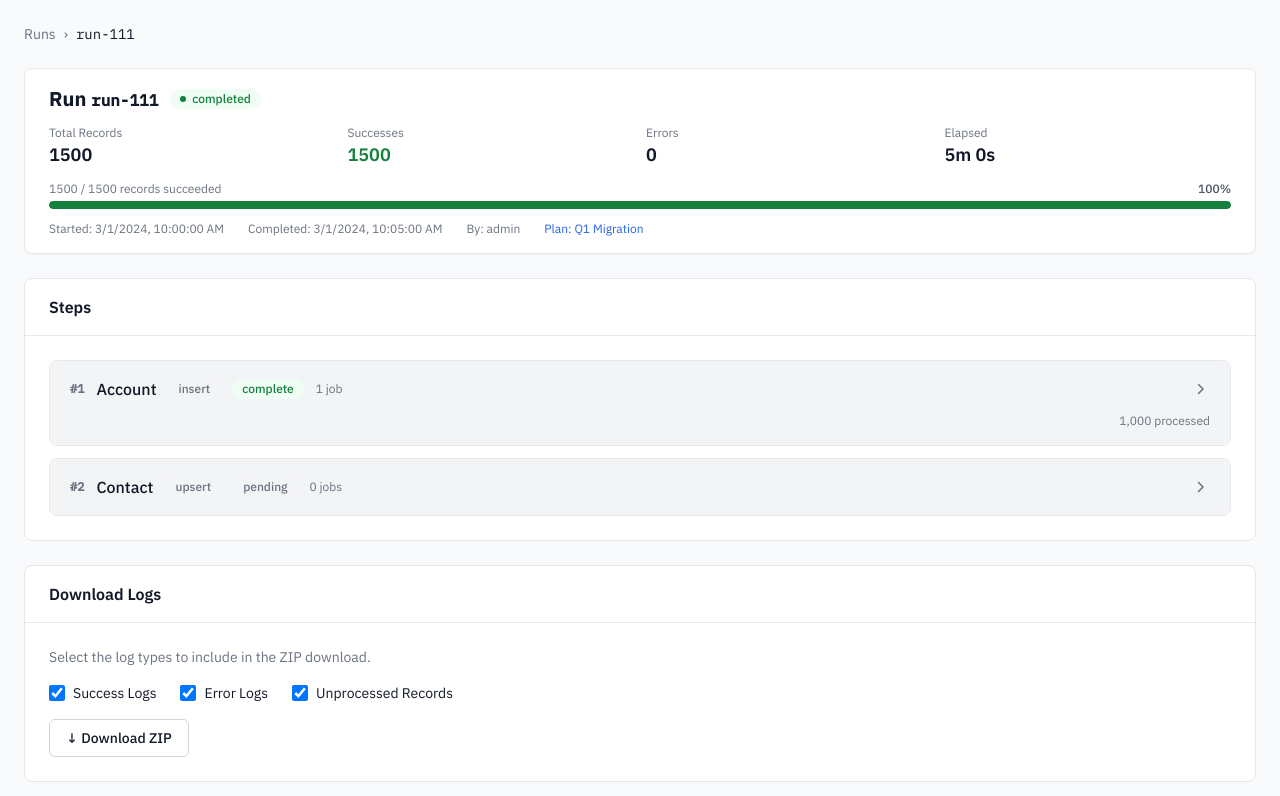
Scenario: RunDetail › collapses the step panel when clicked again
Click the button with aria-label "Step 1: Account" at (126, 389), box [70, 377, 1178, 401]
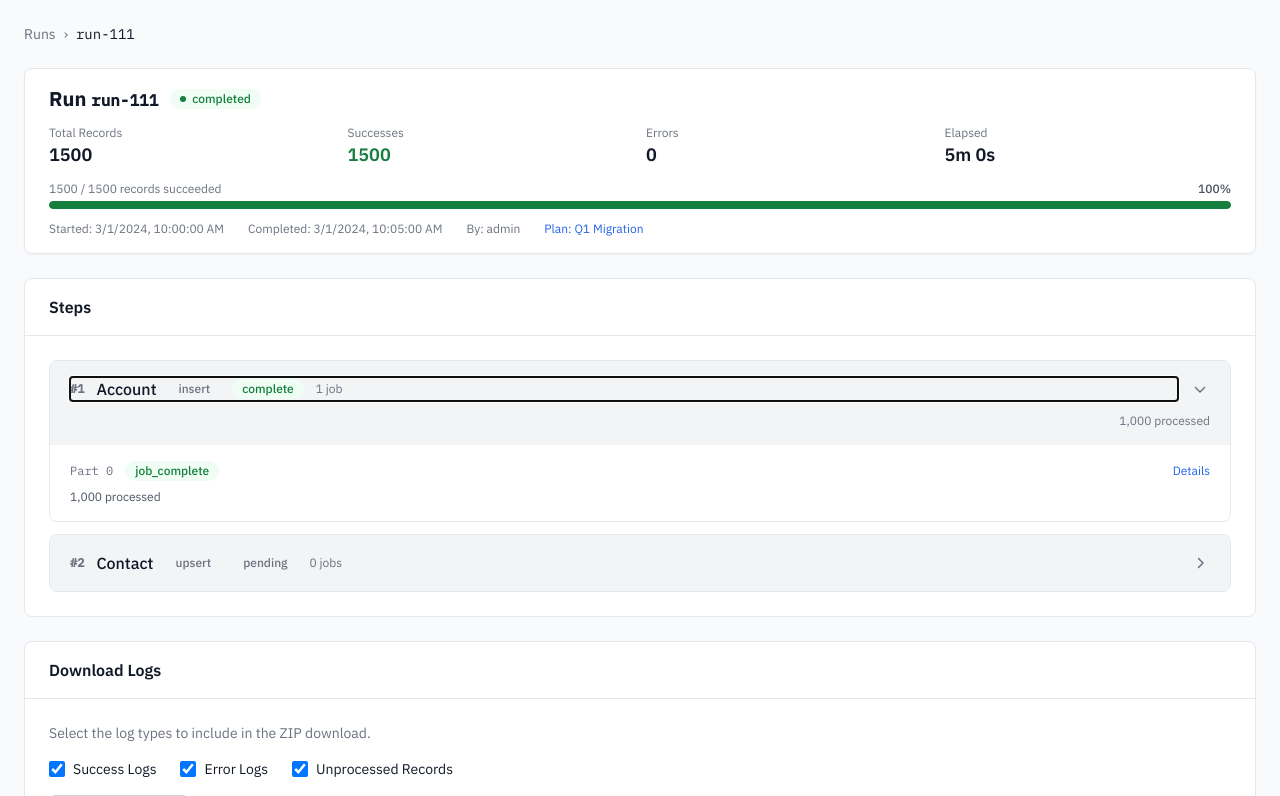
Result: the text "Part 0" is shown at [70, 463, 113, 479]
Click the button with aria-label "Step 1: Account" at (126, 389), box [70, 377, 1178, 401]
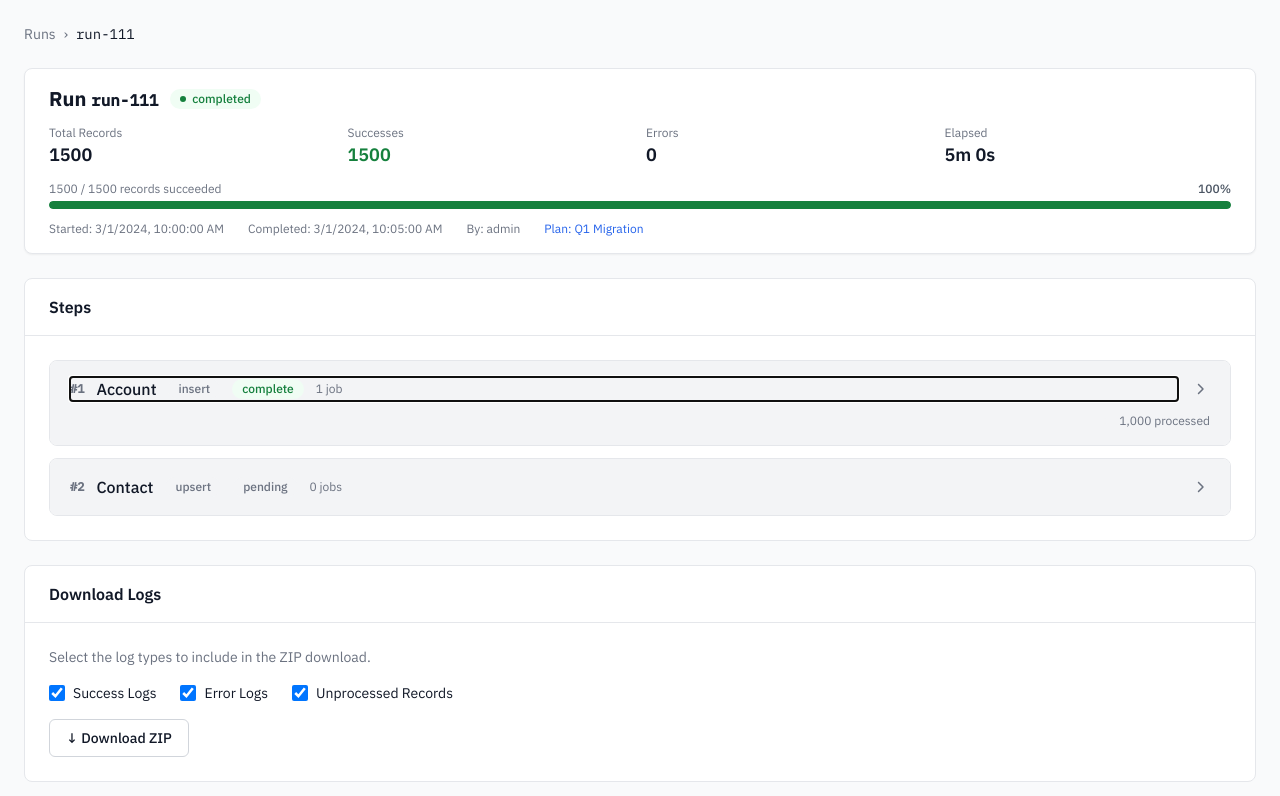
Result: the text "Part 0" is gone
